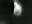person: (13, 1, 25, 19)
